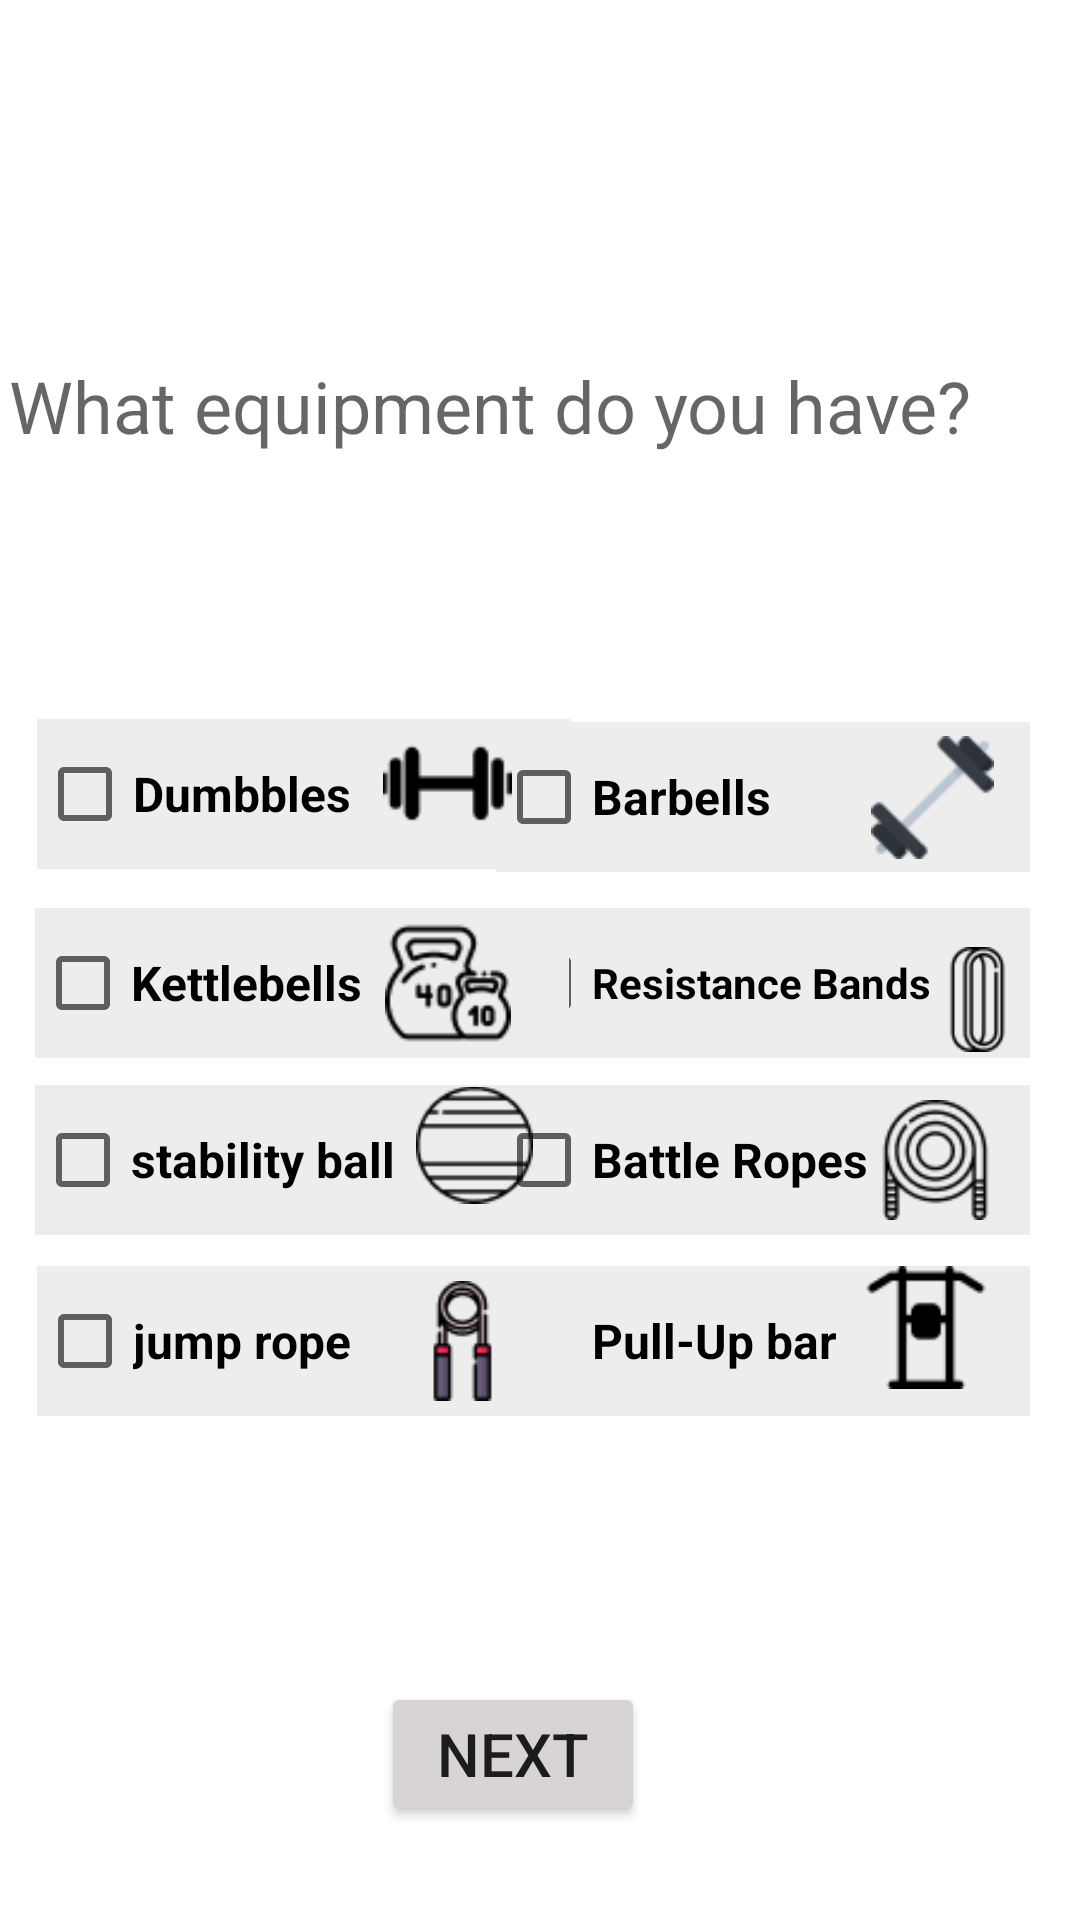

Icon click points for this 1080 x 1920 phone screenshot, format point (x, y):
dumbbell: point (447, 783)
